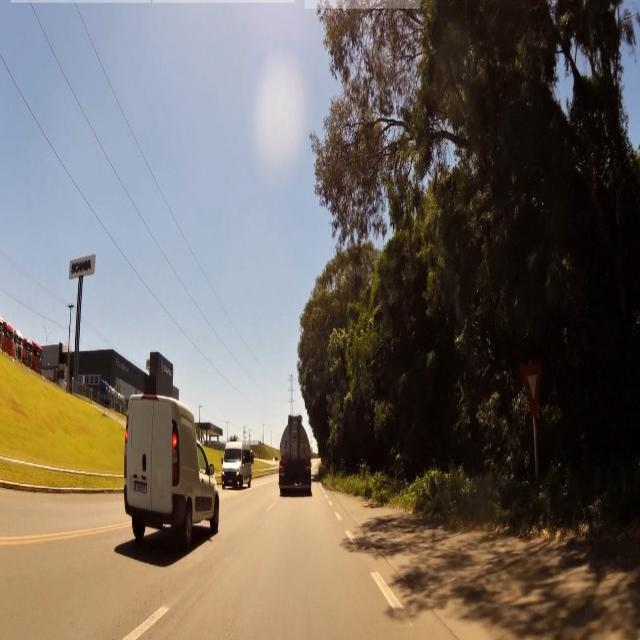R-2: (520, 360, 545, 418)
